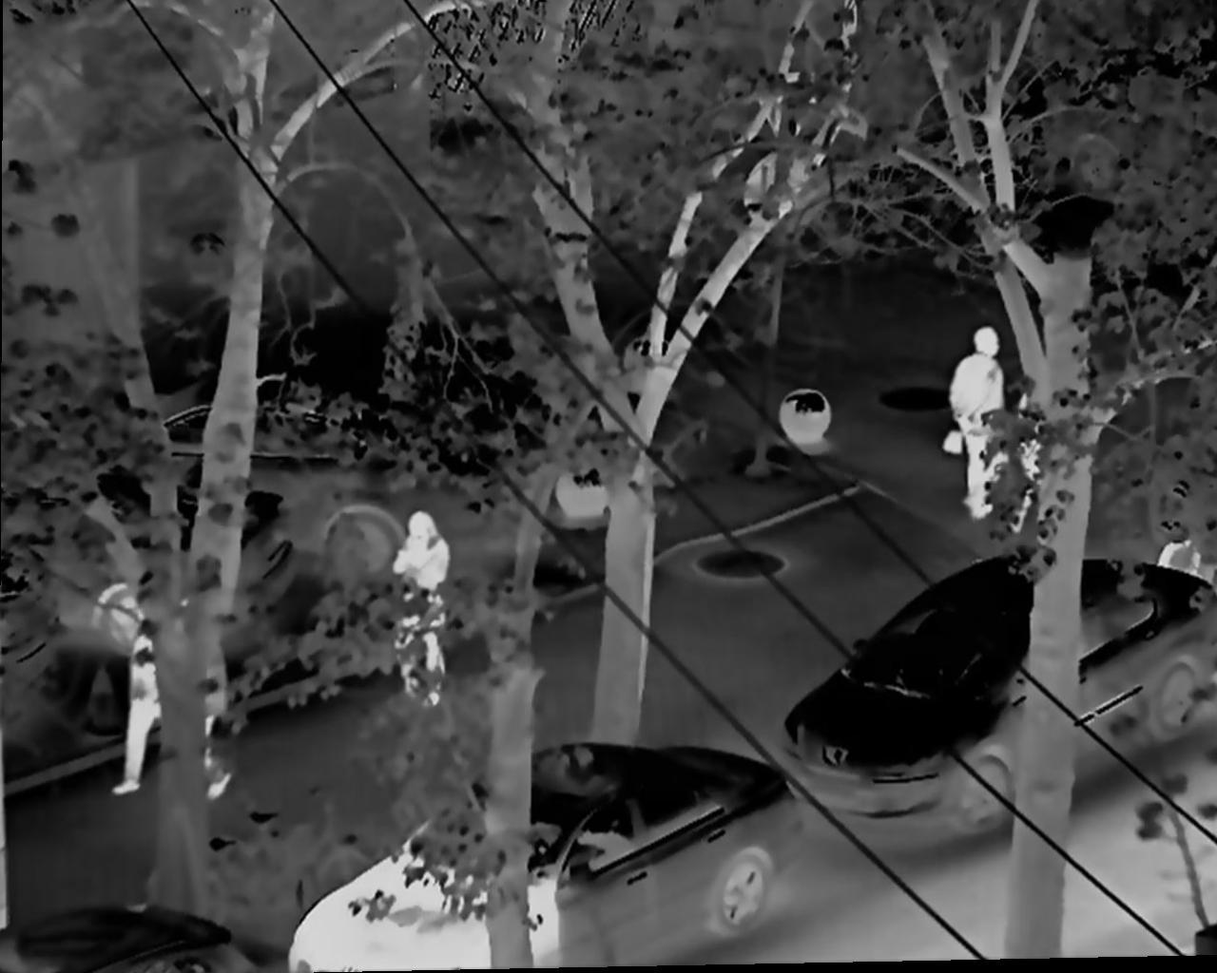person: (102, 594, 184, 812), (387, 515, 454, 710), (164, 622, 231, 807), (945, 327, 1006, 515), (1002, 380, 1053, 542)
